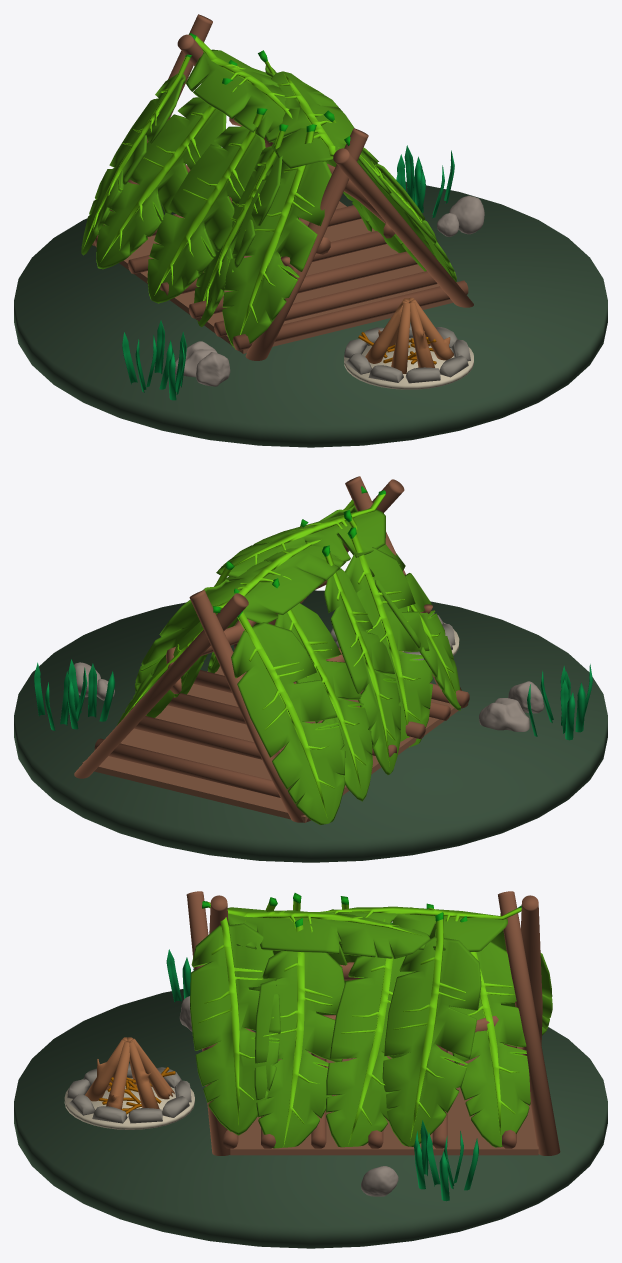
File: Çadır_6.fbx
3 views of the same model, one above another, from view 1: azimuth 30°, elevation 25°; view 2: azimuth 150°, elevation 25°; view 3: azimuth 270°, elevation 25° (orthographic).
Parts seen in each view (by area): view 1: Circle.007; view 2: Circle.007; view 3: Circle.007.
Boxes of the visible parts, <box> form: Circle.007: <box>14,14,607,447</box>; Circle.007: <box>14,476,607,862</box>; Circle.007: <box>14,891,607,1248</box>.
Bounding box in the file's own units: 1809 × 762 × 1809.
